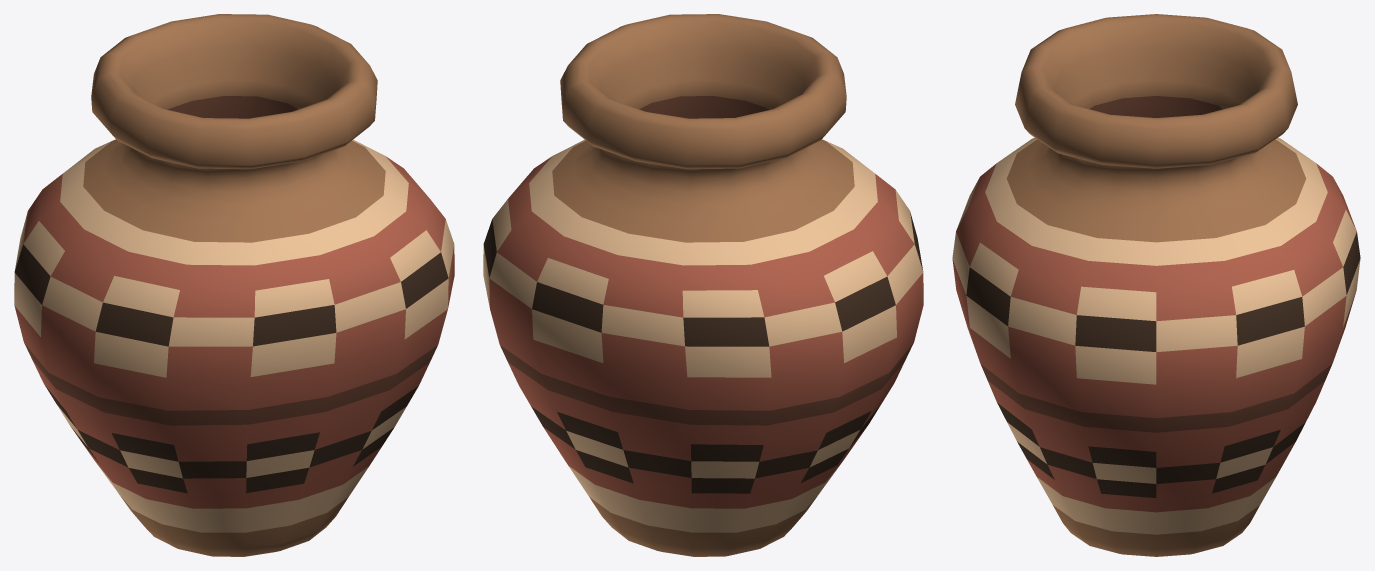
File: Vasija.fbx
3 views of the same model, side by side, from view 1: azimuth 30°, elevation 25°; view 2: azimuth 150°, elevation 25°; view 3: azimuth 270°, elevation 25° (orthographic).
Visible parts, largest first — view 1: Vasija; view 2: Vasija; view 3: Vasija.
Part boxes in pixels (x1=…): Vasija: x1=14, y1=14, x2=454, y2=556; Vasija: x1=483, y1=14, x2=923, y2=556; Vasija: x1=952, y1=14, x2=1360, y2=556.
Size of the model in its own units: 267 by 302 by 244.
